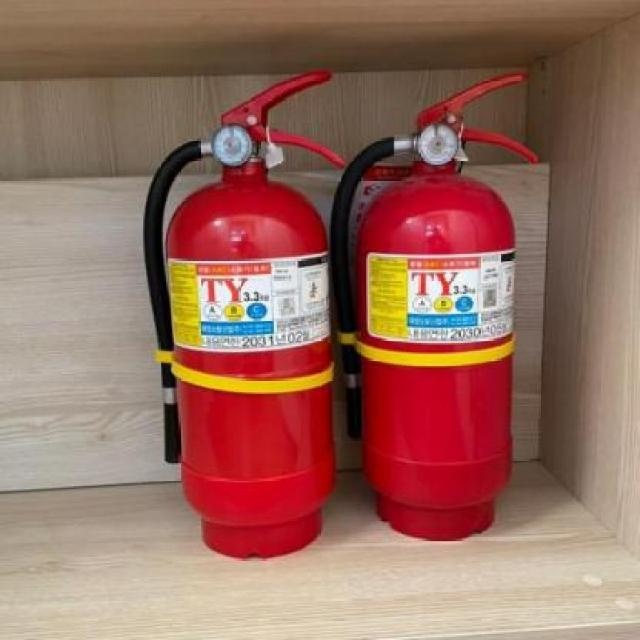fire extinguisher: (142, 71, 344, 560), (328, 74, 537, 540)
